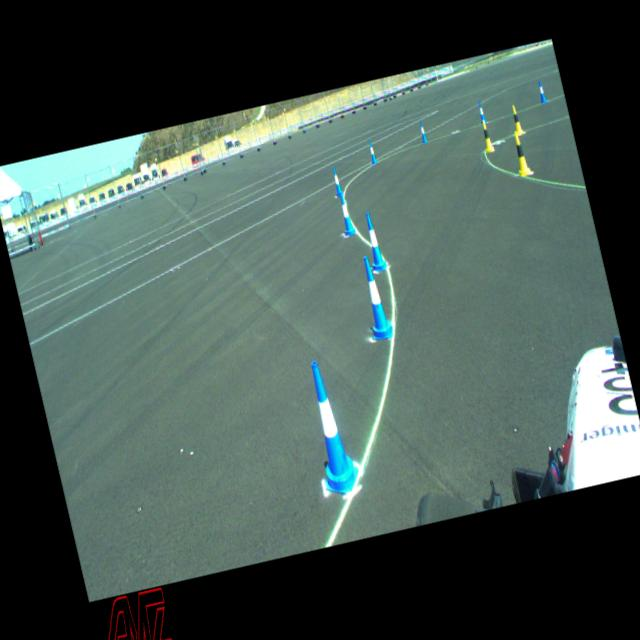blue_cone: (297, 356, 362, 496), (354, 252, 394, 340), (360, 211, 387, 272), (336, 190, 356, 236), (330, 165, 343, 196), (367, 140, 377, 164), (476, 100, 486, 123), (536, 80, 546, 102), (418, 120, 428, 142)
yellow_cone: (510, 130, 531, 176), (479, 119, 494, 152), (511, 104, 524, 134)
